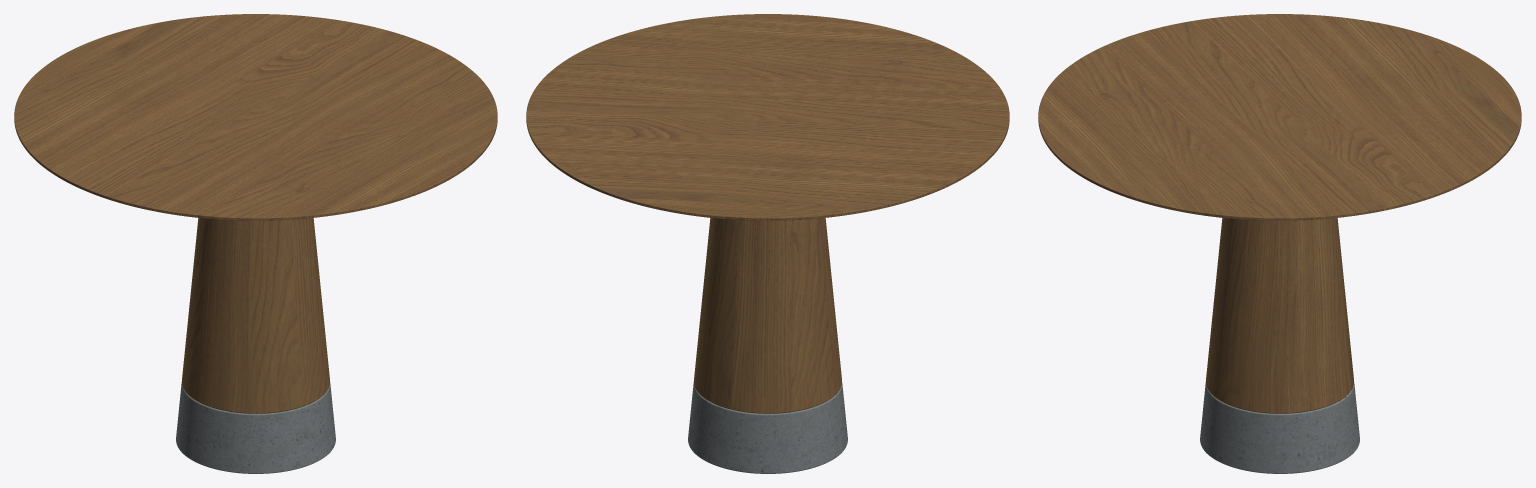
The model's file is tok_konus.glb.
3 renders of one model, left to right at view 1: azimuth 30°, elevation 25°; view 2: azimuth 150°, elevation 25°; view 3: azimuth 270°, elevation 25°, orthographic.
Parts seen in each view (by area): view 1: Cylinder9117.001, Cone090.001, Object10932.001; view 2: Cylinder9117.001, Cone090.001, Object10932.001; view 3: Cylinder9117.001, Cone090.001, Object10932.001.
Boxes of the visible parts, x1,y1,x2,y2 form: Cylinder9117.001: [14, 14, 497, 220]; Cone090.001: [182, 218, 329, 413]; Object10932.001: [176, 382, 335, 473]; Cylinder9117.001: [526, 14, 1009, 220]; Cone090.001: [694, 218, 841, 413]; Object10932.001: [688, 382, 847, 473]; Cylinder9117.001: [1038, 14, 1521, 220]; Cone090.001: [1206, 218, 1353, 413]; Object10932.001: [1200, 382, 1359, 473].
Size of the model in its own units: 1 by 0.7415 by 1.
3 materials, 2 textured.
